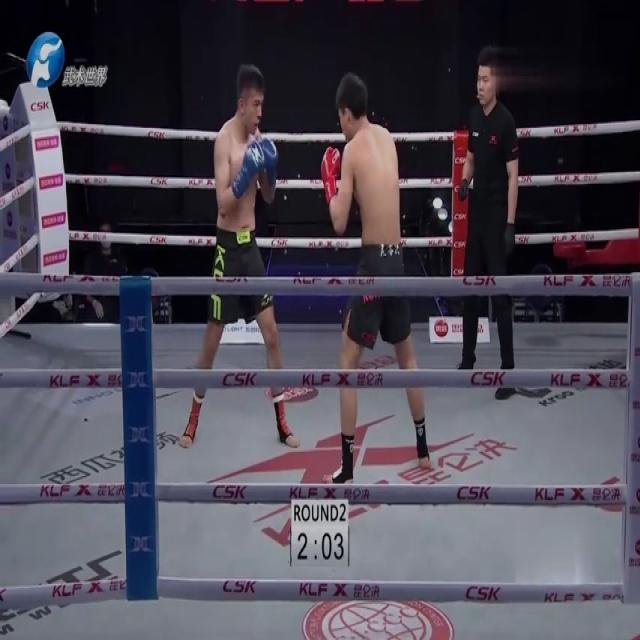fight: (184, 53, 432, 488)
non-fight: (450, 42, 520, 394)
